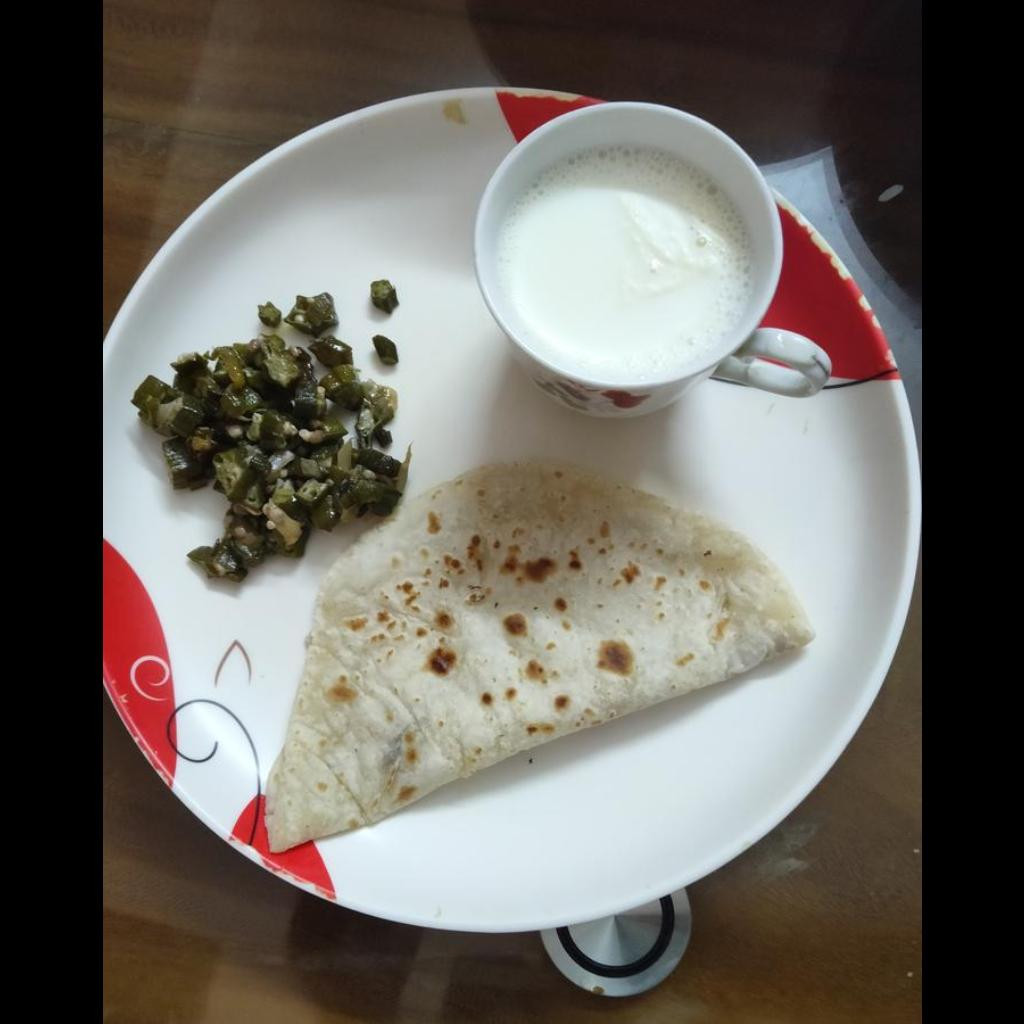milk: (490, 146, 746, 377)
okra: (128, 290, 404, 582)
ruti: (262, 457, 818, 859)
